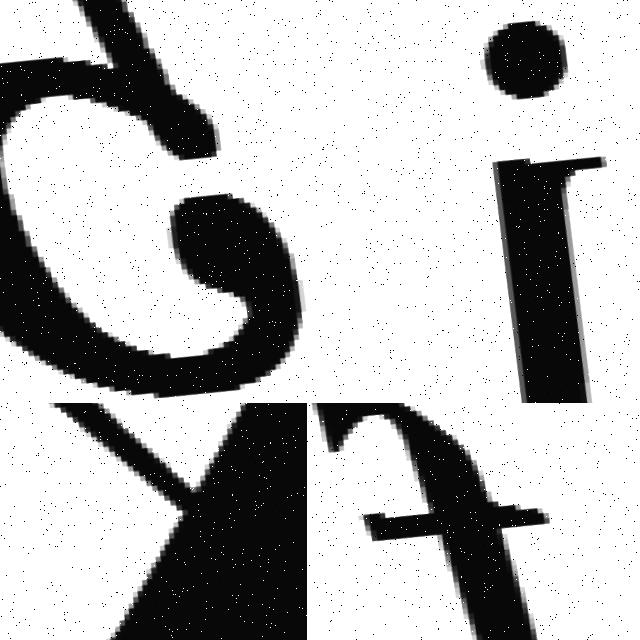5: (0, 0, 307, 403)
F: (307, 403, 640, 640)
J: (441, 0, 640, 403)
X: (0, 403, 307, 640)
